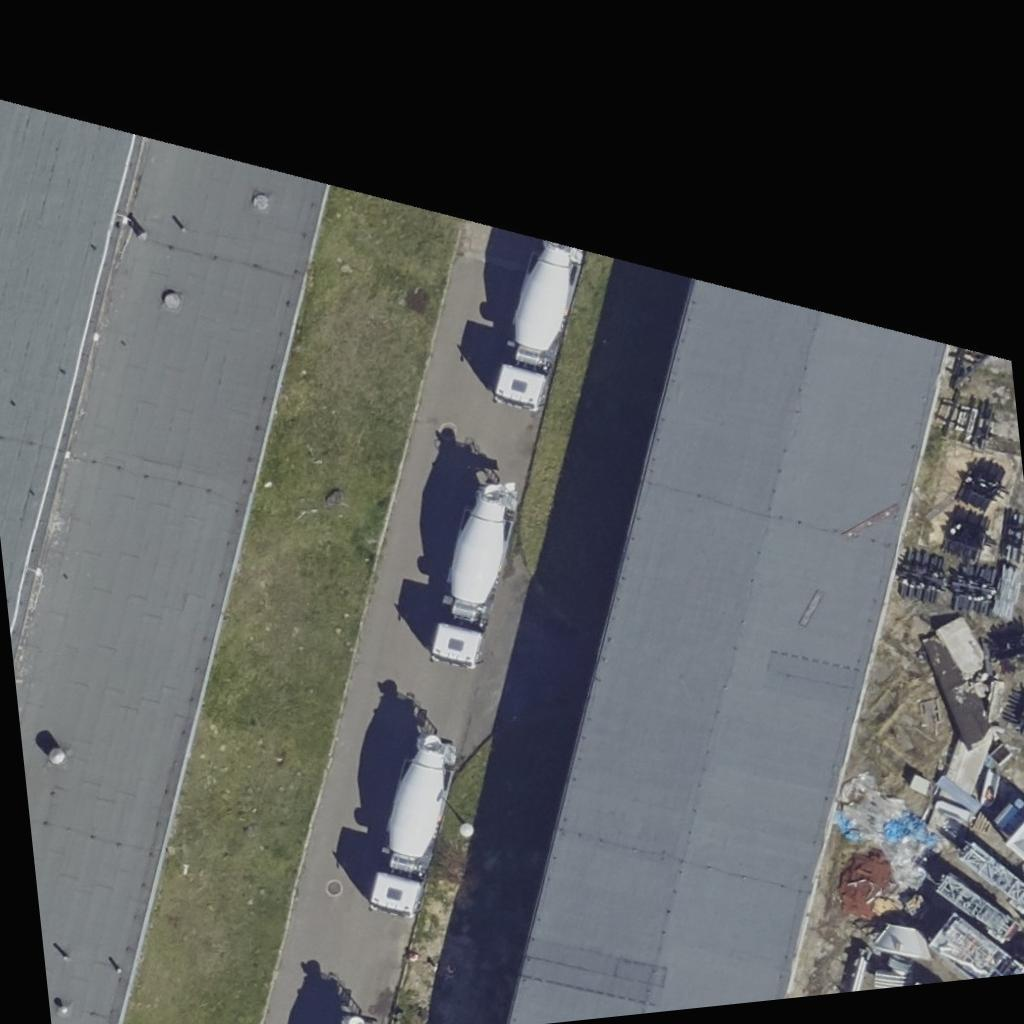betoniarka: (413, 478, 533, 672), (354, 732, 472, 920), (478, 238, 596, 416)
